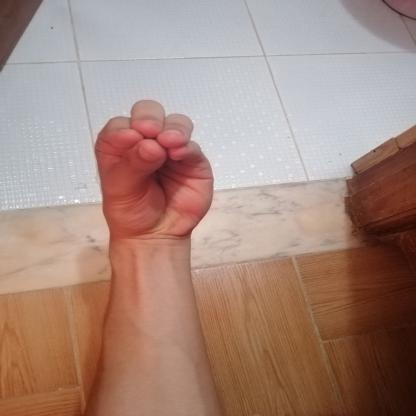HA: (78, 87, 233, 255)
